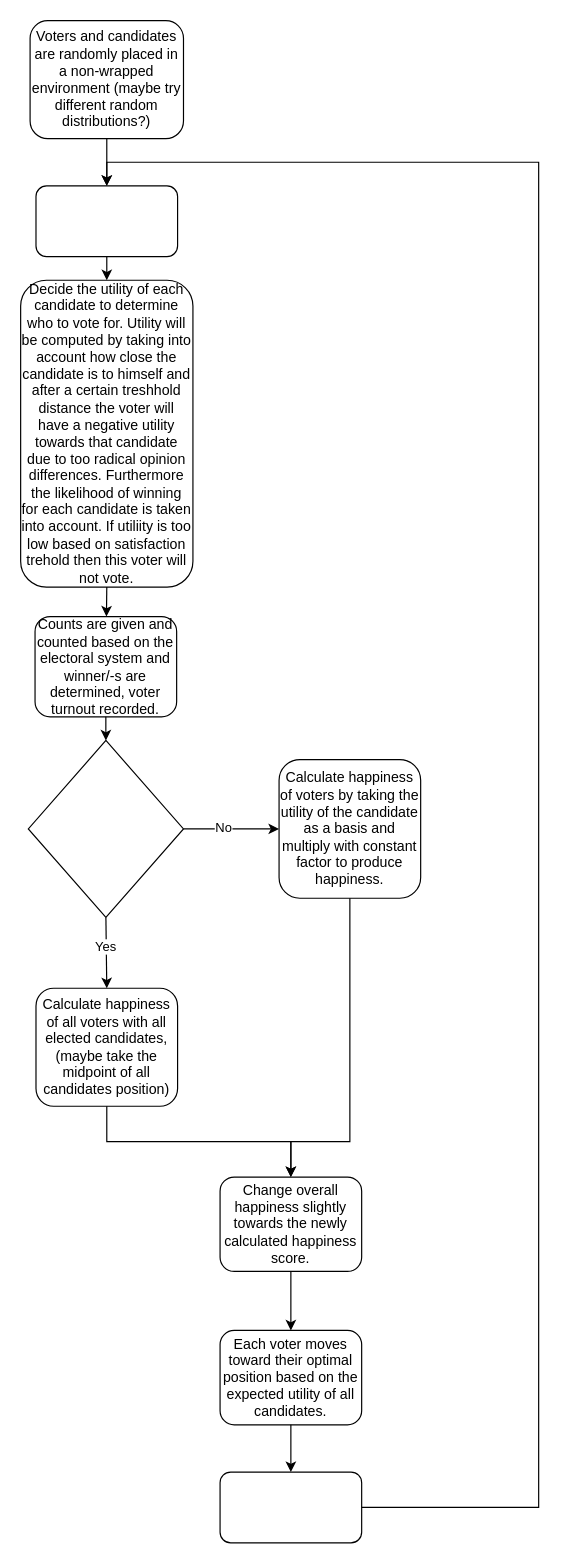
This 569x1563 diagram has some shape labels left out. Each missing label, with the centre of its shape:
Election begins, in which each voter:: (x=106, y=221)
Is multi-candidate district?: (x=105, y=828)
New election cycle begins.: (x=290, y=1507)
